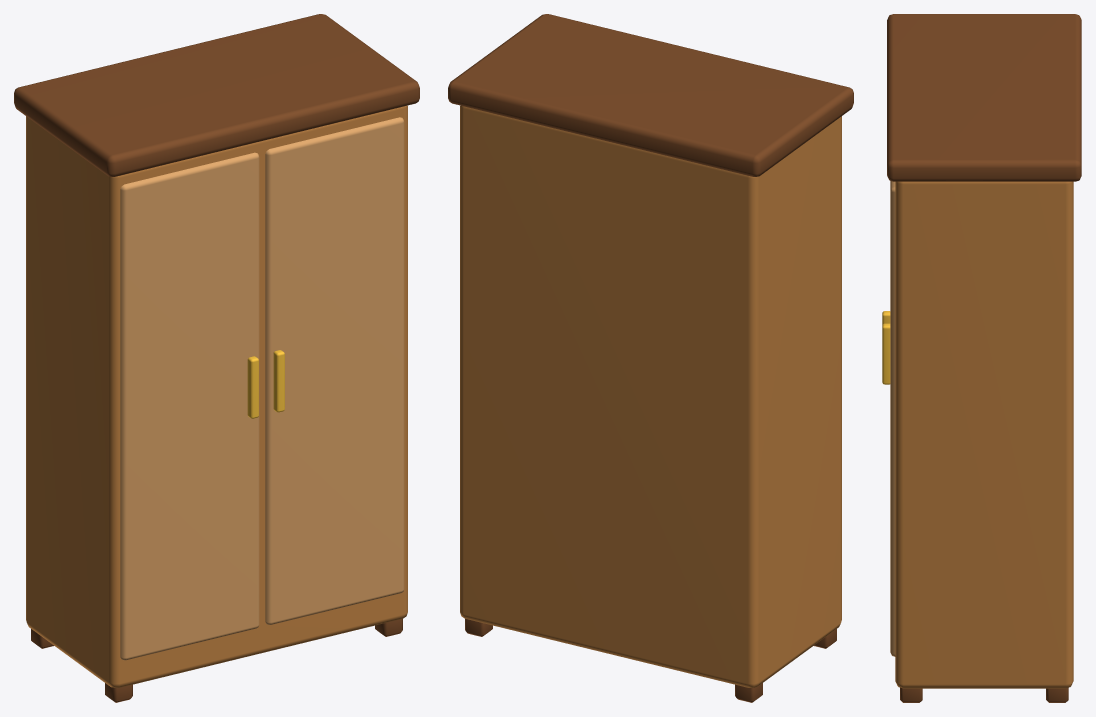
File: Wardrobe.fbx
The picture shows the model from 3 angles, left to right: view 1: azimuth 30°, elevation 25°; view 2: azimuth 150°, elevation 25°; view 3: azimuth 270°, elevation 25°; orthographic projection.
Visible parts, largest first — view 1: Wardrobe; view 2: Wardrobe; view 3: Wardrobe.
Boxes of the visible parts, bbox=[...] form: Wardrobe: bbox=[14, 14, 419, 702]; Wardrobe: bbox=[448, 14, 853, 702]; Wardrobe: bbox=[882, 14, 1081, 702].
Size of the model in its own units: 4.4 by 7.45 by 2.46.
1 material, 1 textured.
